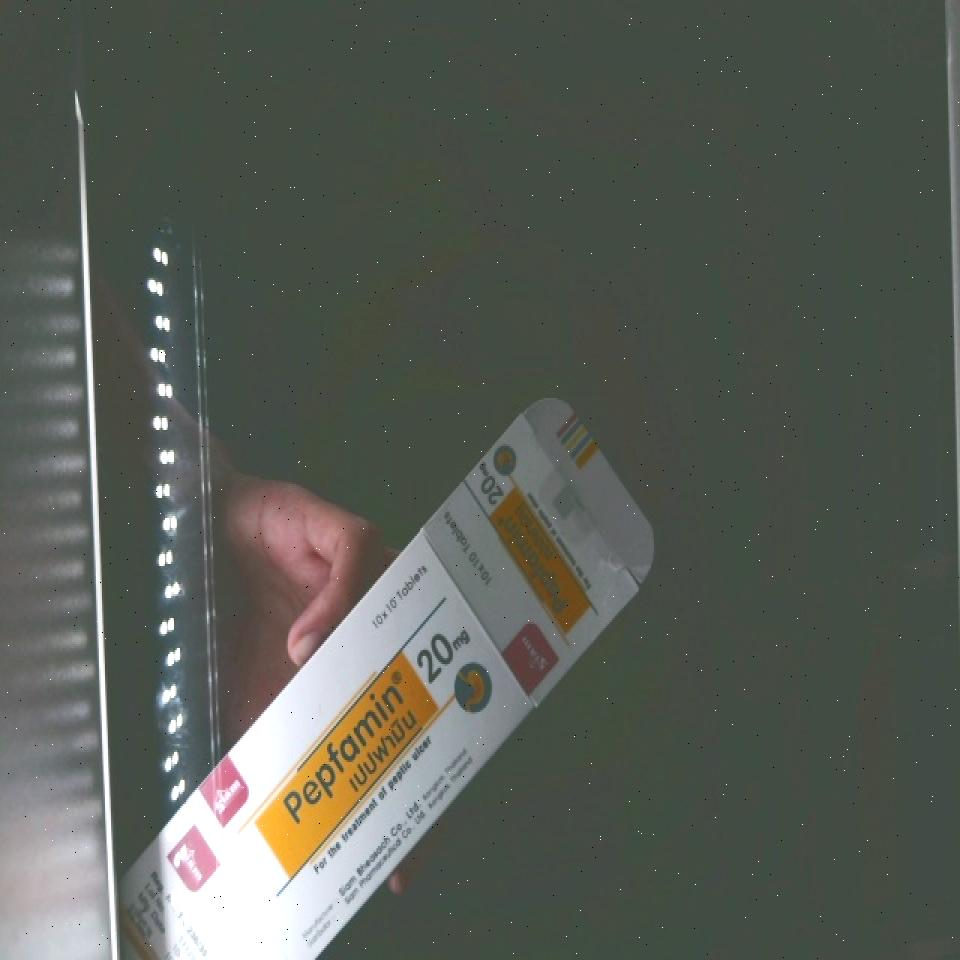medicine_box: (79, 390, 687, 960)
medicine_label_obb: (245, 648, 449, 876)
